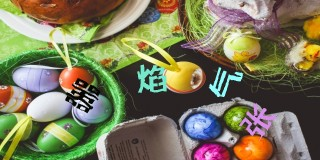嚣: (63, 77, 101, 113)
张: (239, 101, 278, 138)
气: (205, 66, 243, 98)
焰: (132, 64, 169, 95)
